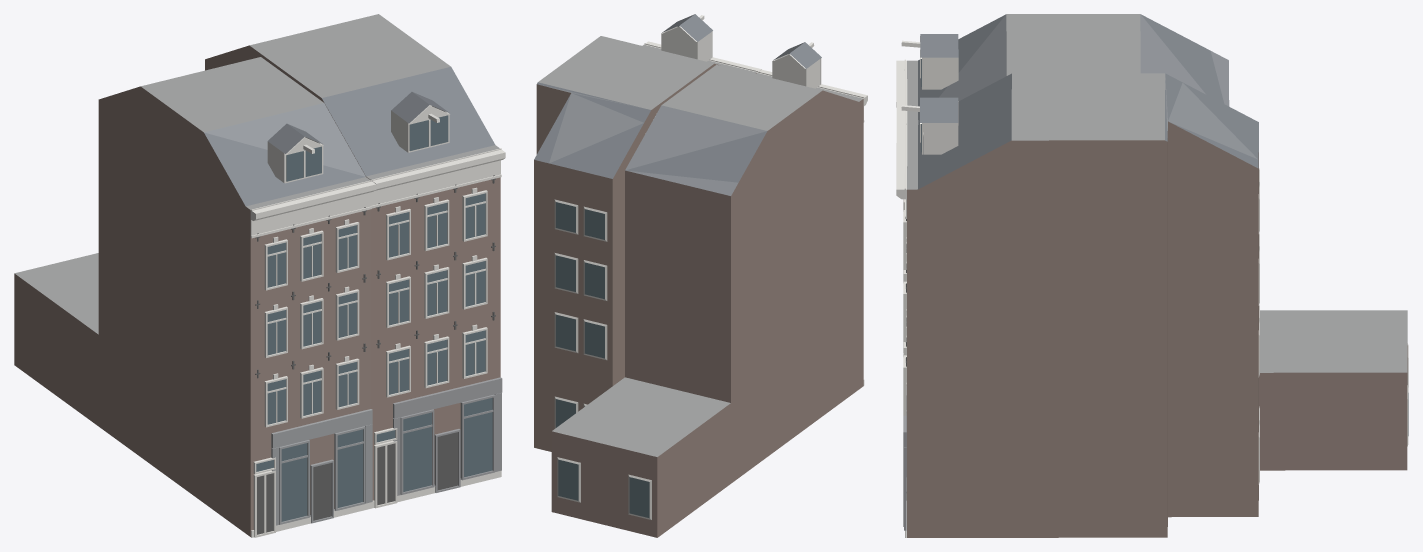
File: chunk-face-wou-32-52-r2.glb
The picture shows the model from 3 angles, left to right: view 1: azimuth 30°, elevation 25°; view 2: azimuth 150°, elevation 25°; view 3: azimuth 270°, elevation 25°; orthographic projection. The views are drawn at different scales.
Parts seen in each view (by area): view 1: face-wou-32-52-r2; view 2: face-wou-32-52-r2; view 3: face-wou-32-52-r2.
Boxes of the visible parts, left/top/right/bottom form: face-wou-32-52-r2: left=14, top=14, right=505, bottom=537; face-wou-32-52-r2: left=534, top=14, right=867, bottom=537; face-wou-32-52-r2: left=896, top=14, right=1408, bottom=537.
Size of the model in its own units: 11.42 by 16.65 by 19.01.
